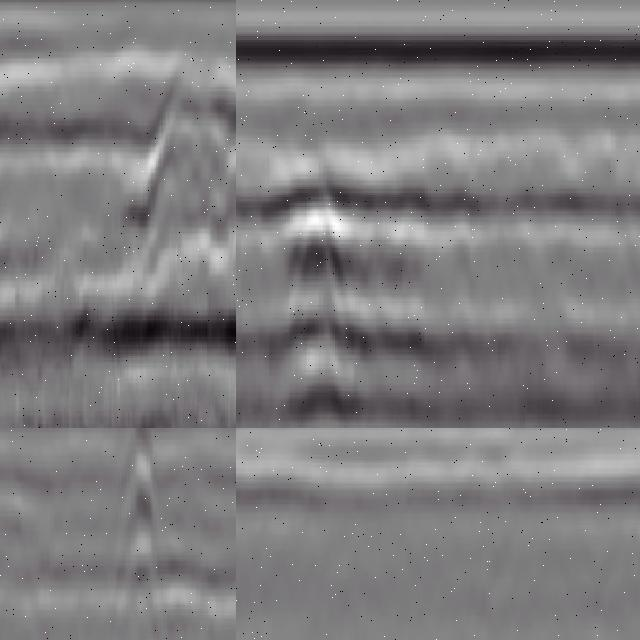crack: (114, 429, 154, 640)
loose: (237, 145, 429, 429), (108, 54, 237, 378)
